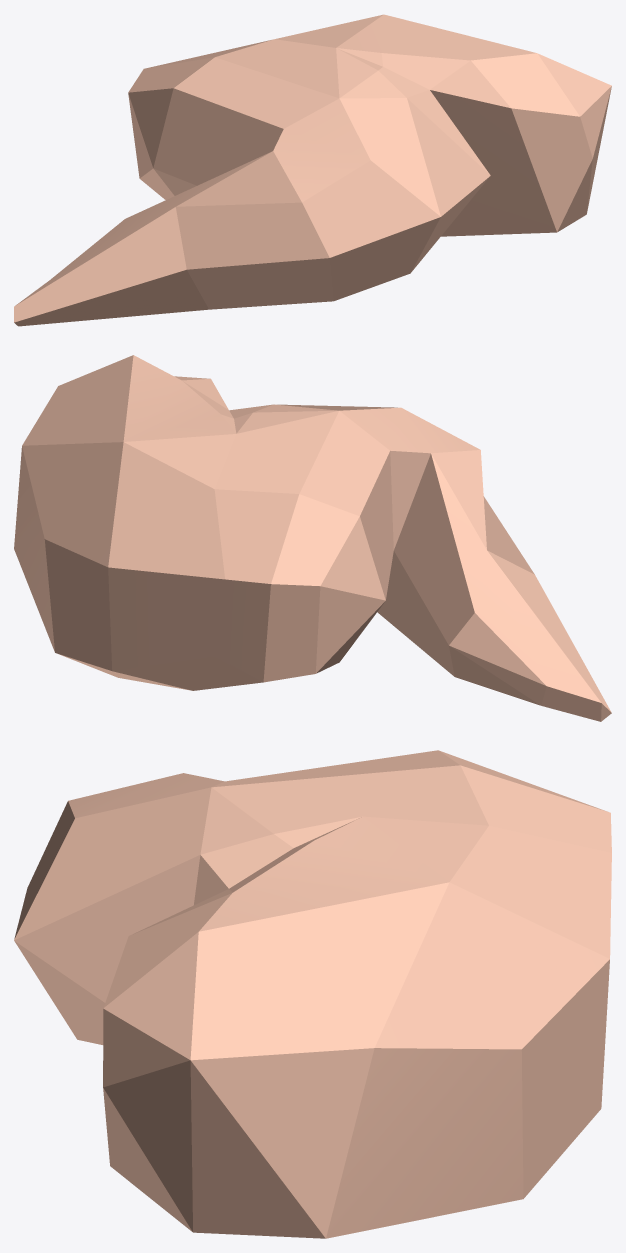
The model's file is SM_Prop_Food_Chicken_Wing_Raw_01.obj.
3 views of the same model, one above another, from view 1: azimuth 30°, elevation 25°; view 2: azimuth 150°, elevation 25°; view 3: azimuth 270°, elevation 25° (orthographic). The views are drawn at different scales.
Visible parts, largest first — view 1: SM_Prop_Food_Chicken_Wing_Raw_01_0; view 2: SM_Prop_Food_Chicken_Wing_Raw_01_0; view 3: SM_Prop_Food_Chicken_Wing_Raw_01_0.
Boxes of the visible parts, box(x1,y1,x2,y2) form: SM_Prop_Food_Chicken_Wing_Raw_01_0: box(14, 14, 611, 326); SM_Prop_Food_Chicken_Wing_Raw_01_0: box(14, 355, 611, 721); SM_Prop_Food_Chicken_Wing_Raw_01_0: box(14, 750, 611, 1238).
Size of the model in its own units: 0.2524 by 0.087 by 0.1528.
Materials: 1 (1 with a texture image).
